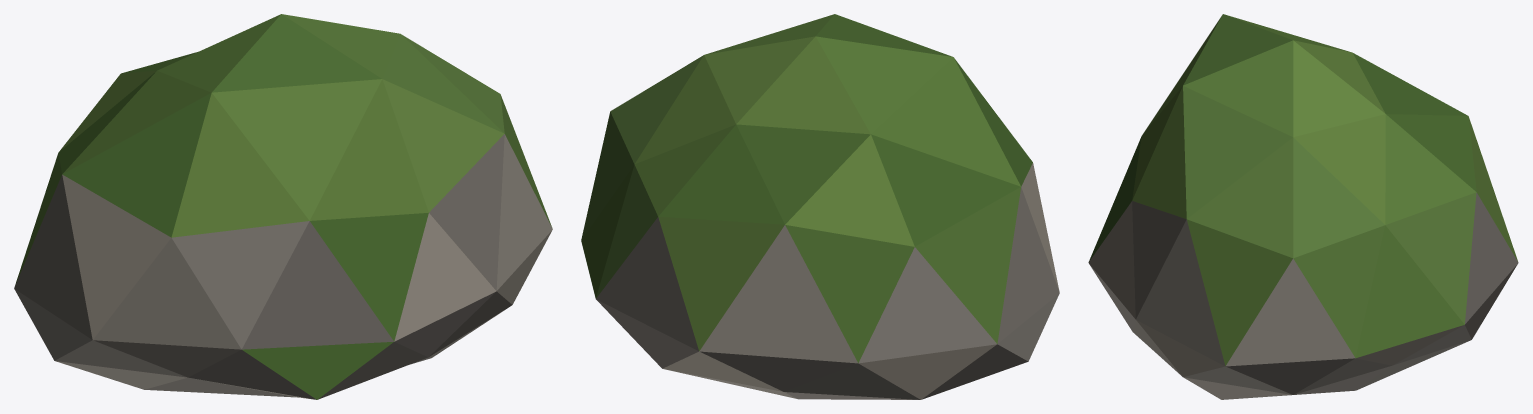
File: RockMossy.glb
3 renders of one model, left to right at view 1: azimuth 30°, elevation 25°; view 2: azimuth 150°, elevation 25°; view 3: azimuth 270°, elevation 25°, orthographic. The views are drawn at different scales.
Visible parts, largest first — view 1: Body; view 2: Body; view 3: Body.
Part boxes in pixels (x1,y1,x2,y2): Body: (14,14,552,399); Body: (581,14,1059,399); Body: (1088,14,1518,399).
Size of the model in its own units: 3.96 by 2.81 by 3.5.
